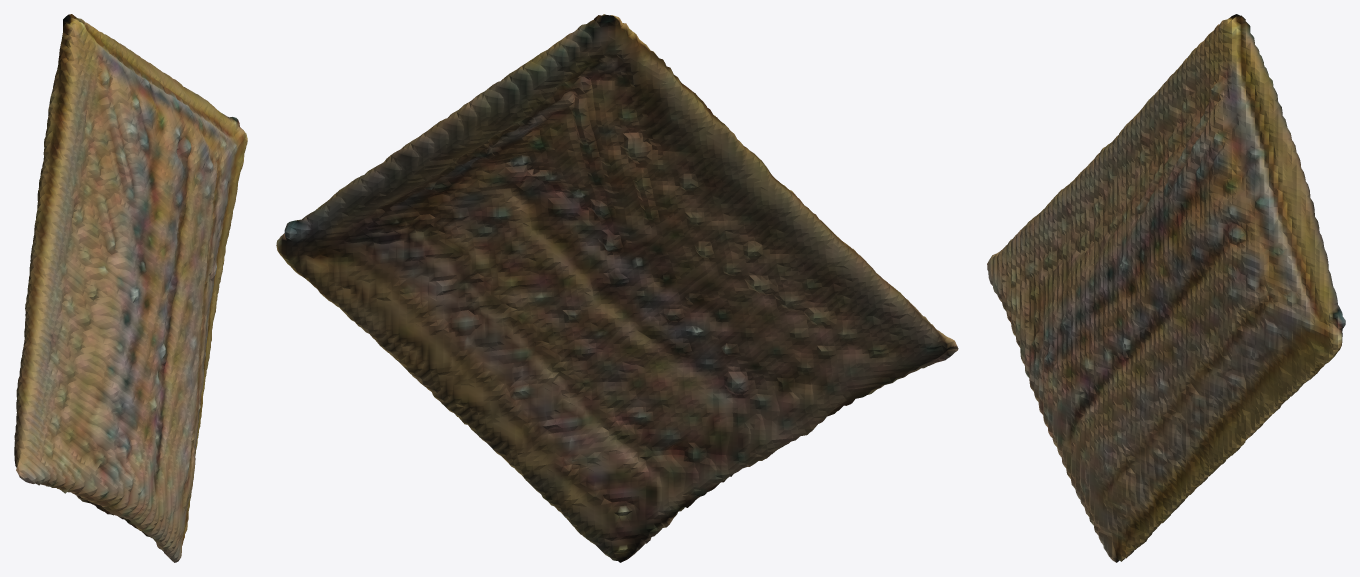
3 renders of one model, left to right at view 1: azimuth 30°, elevation 25°; view 2: azimuth 150°, elevation 25°; view 3: azimuth 270°, elevation 25°, orthographic. The views are drawn at different scales.
Bounding box in the file's own units: 0.6979 × 0.8565 × 0.5313.
